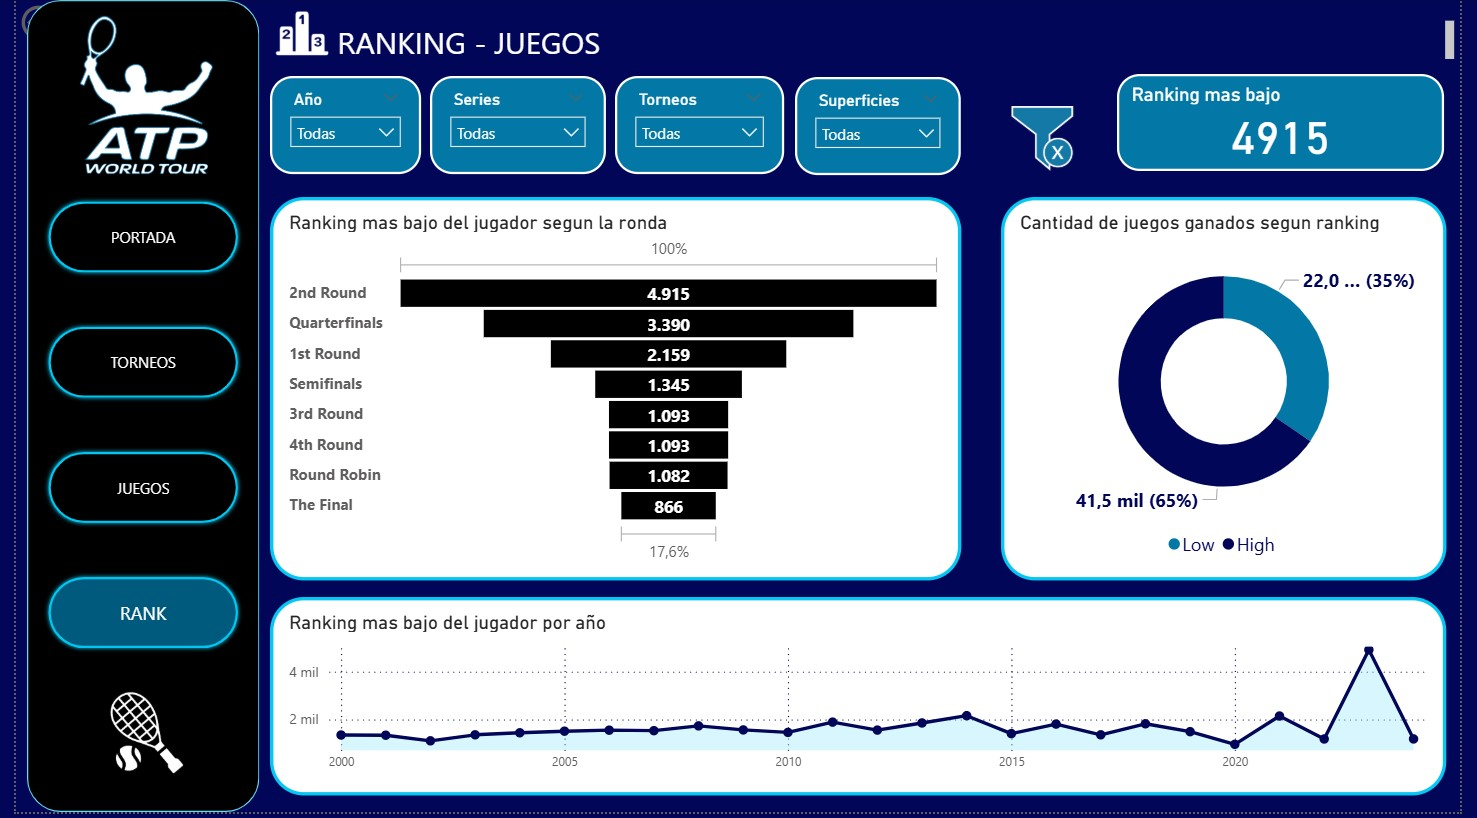

The page's visual inventory and layout, read from the dashboard file:
{"tool":"powerbi","page":{"name":"RANK","canvas":[1280,720],"ordinal":3},"visuals":[{"type":"slicer","fields":{"Values":["Series.Series"]},"box":[367.1,67.4,156.1,86.9],"z":0},{"type":"slicer","fields":{"Values":["Tournament.Tournament"]},"box":[531.1,67.4,149.9,86.9],"z":1000},{"type":"slicer","fields":{"Values":["Calendario.Año"]},"box":[225.2,67.4,133.9,86.9],"z":2000},{"type":"textbox","box":[225.2,13.3,1055.2,45.2],"z":3000},{"type":"slicer","fields":{"Values":["Surface.Surface"]},"box":[690.7,68.3,147.2,86.9],"z":4000},{"type":"funnel","title":"Ranking mas bajo del jugador segun la ronda","fields":{"Category":["Round.Round"],"Y":["*MEDIDAS.RANK MORE LOW"]},"box":[225,175,613,340],"z":5000},{"type":"card","title":"Ranking mas bajo","fields":{"Values":["*MEDIDAS.ValorMáximo"]},"box":[976,66,290,86],"z":6000},{"type":"lineChart","title":"Ranking mas bajo del jugador por año","fields":{"Category":["Calendario.Año"],"Y":["*MEDIDAS.RANK MORE LOW"]},"box":[225,529,1043,176],"z":7000},{"type":"donutChart","title":"Cantidad de juegos ganados segun ranking","fields":{"Category":["Id_Winner_rank.Winner _Rank"],"Y":["CountNonNull(Atp.Winner_rank__.ID_Winner _rank)"]},"box":[873,175,395,340],"z":8000},{"type":"actionButton","box":[0,0,100,40],"z":9000},{"type":"image","box":[225,0,57,58],"z":10000},{"type":"image","box":[873,85.1,74,75.9],"z":11000},{"type":"group","id":"g1","title":"logo ","box":[10,0,214,720],"z":12000},{"type":"shape","box":[10,0,206,720],"z":12500,"group":"g1"},{"type":"pageNavigator","box":[25,175,176,519],"z":13000,"group":"g1"},{"type":"image","box":[10,8,214,154],"z":14000,"group":"g1"},{"type":"image","box":[46,604,134,90],"z":16000,"group":"g1"}]}

Visuals, with their boxes in screenshot pixels (x1, y1, x2, y2), scaled from the page's 1280x720 canvas onto the 1477x818 screenshot:
slicer - Series.Series: crop(424, 77, 604, 175)
slicer - Tournament.Tournament: crop(613, 77, 786, 175)
slicer - Calendario.Año: crop(260, 77, 414, 175)
textbox: crop(260, 15, 1476, 66)
slicer - Surface.Surface: crop(797, 78, 967, 176)
"Ranking mas bajo del jugador segun la ronda" funnel: crop(260, 199, 967, 585)
"Ranking mas bajo" card: crop(1126, 75, 1461, 173)
"Ranking mas bajo del jugador por año" lineChart: crop(260, 601, 1463, 801)
"Cantidad de juegos ganados segun ranking" donutChart: crop(1007, 199, 1463, 585)
actionButton: crop(0, 0, 115, 45)
image: crop(260, 0, 325, 66)
image: crop(1007, 97, 1093, 183)
"logo " group: crop(12, 0, 258, 817)
shape: crop(12, 0, 249, 817)
pageNavigator: crop(29, 199, 232, 788)
image: crop(12, 9, 258, 184)
image: crop(53, 686, 208, 788)
